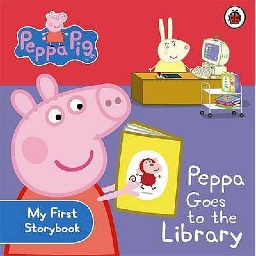Peppa: (1, 72, 132, 256)
